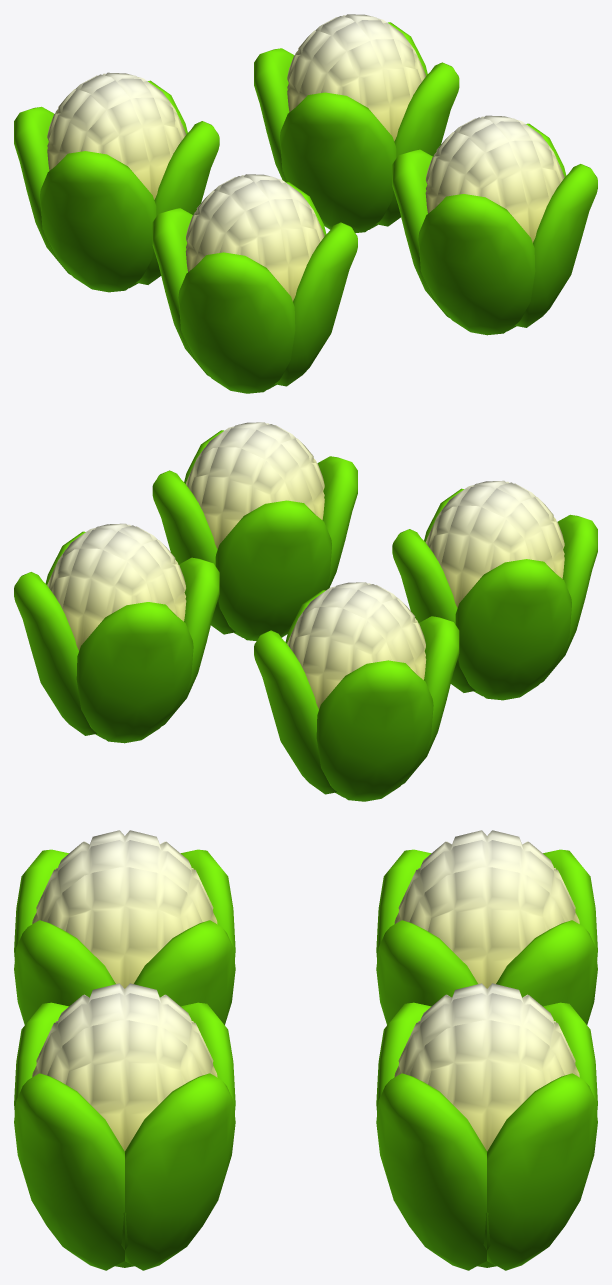
The model's file is couve.gltf.
The picture shows the model from 3 angles, top to bottom: view 1: azimuth 30°, elevation 25°; view 2: azimuth 150°, elevation 25°; view 3: azimuth 270°, elevation 25°; orthographic projection. The views are drawn at different scales.
Parts seen in each view (by area): view 1: Farm_Crop_Cauliflower_Step_03; view 2: Farm_Crop_Cauliflower_Step_03; view 3: Farm_Crop_Cauliflower_Step_03.
Boxes of the visible parts, box(x1,y1,x2,y2) form: Farm_Crop_Cauliflower_Step_03: box(14, 14, 597, 393); Farm_Crop_Cauliflower_Step_03: box(14, 422, 597, 801); Farm_Crop_Cauliflower_Step_03: box(14, 830, 597, 1270).
Size of the model in its own units: 2.1 by 1.04 by 2.03.
Materials: 1 (1 with a texture image).
